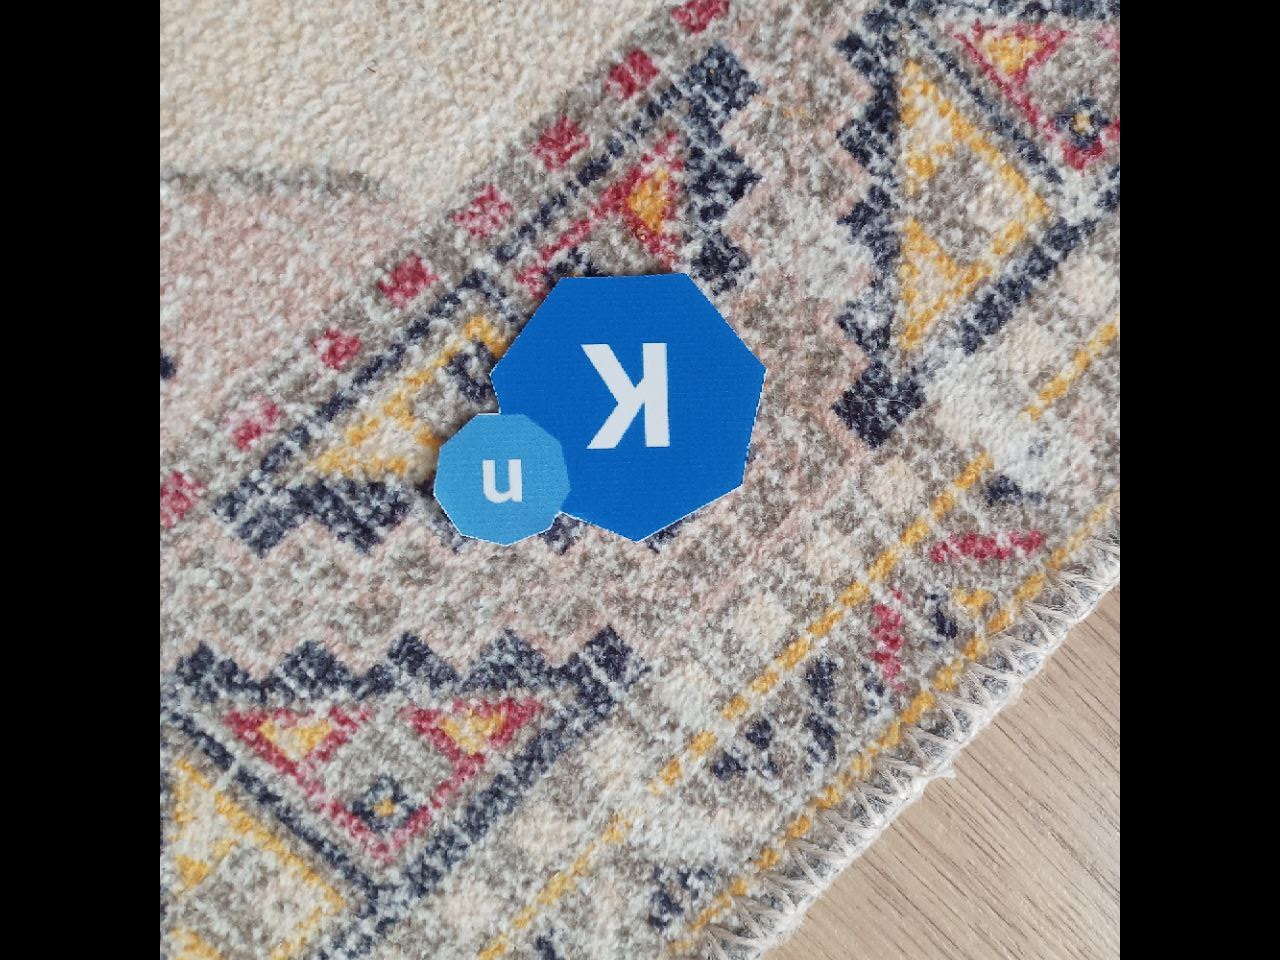knative: (431, 267, 765, 546)
